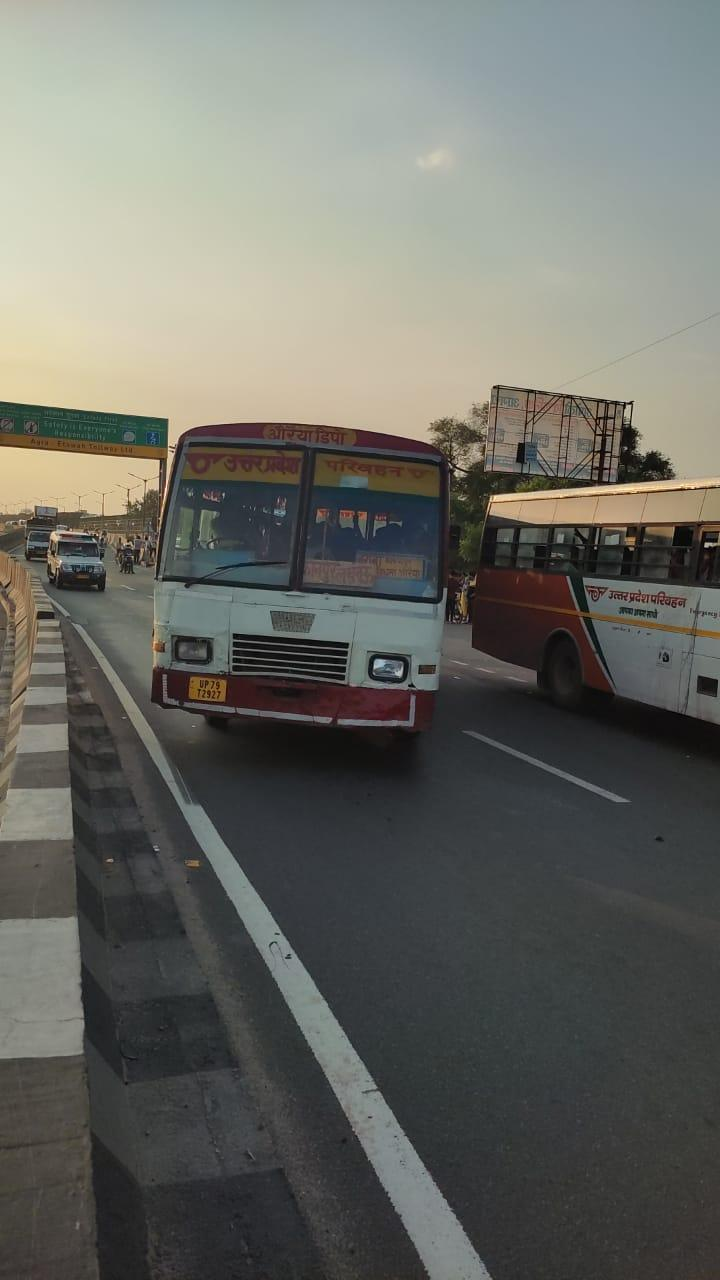Bus: (150, 424, 451, 748), (469, 476, 720, 733)
